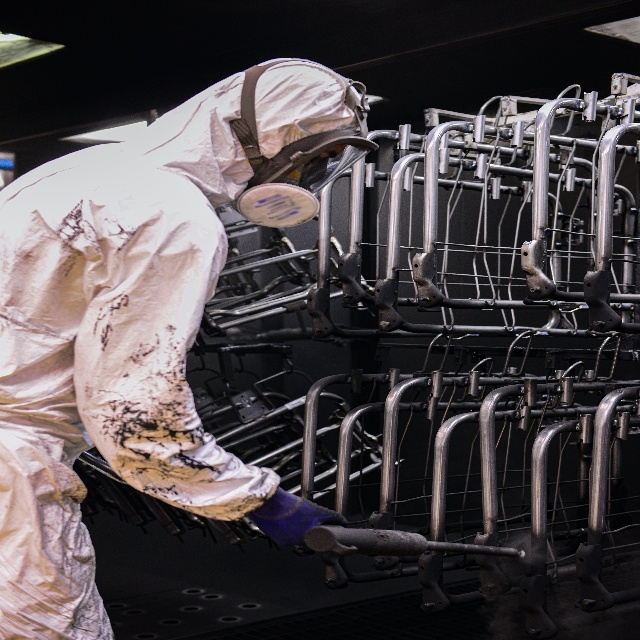Guantes: (246, 489, 349, 549)
